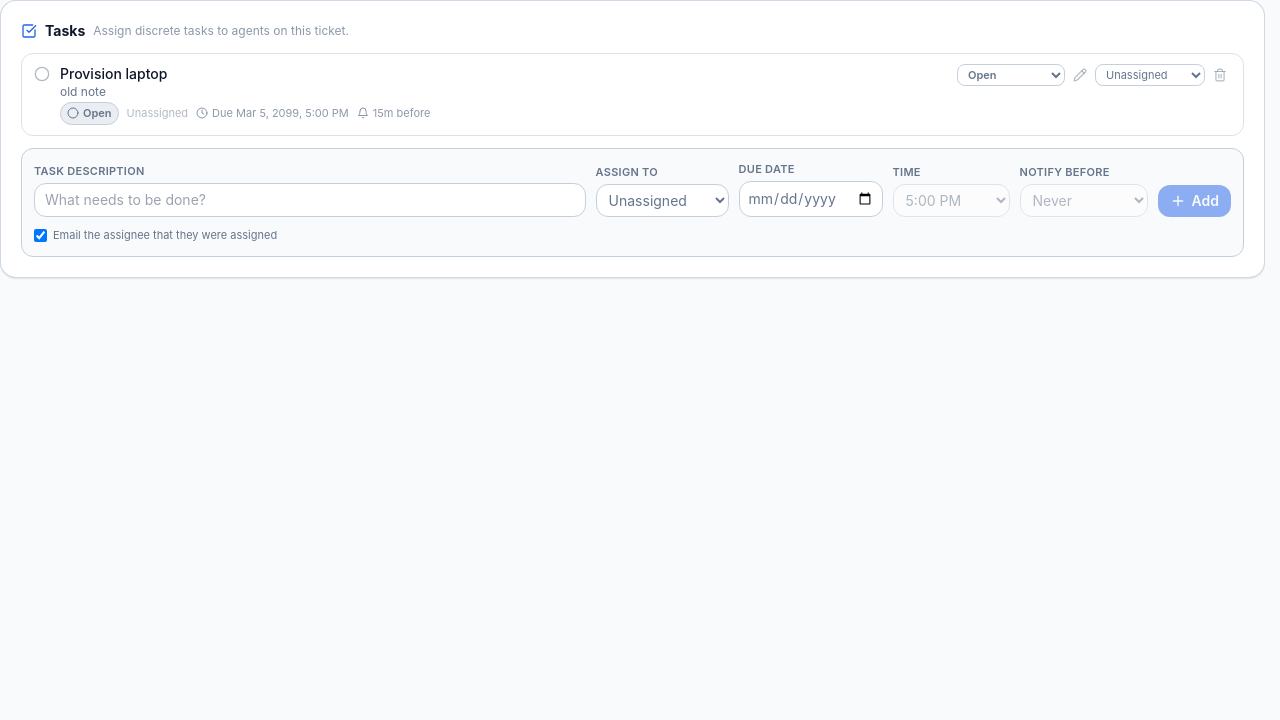
it: TicketTasksTab due time + reminders (QA 08-04 #8) › pencil opens the edit popover; Save PATCHes only the changed fields
This screenshot has width=1280, height=720.
Check: the text "Provision laptop" is shown, box top-left (60, 65), bottom-right (168, 82)
Step 1. Click the button named "Edit task" → (1080, 75), box top-left (1069, 64), bottom-right (1091, 86)
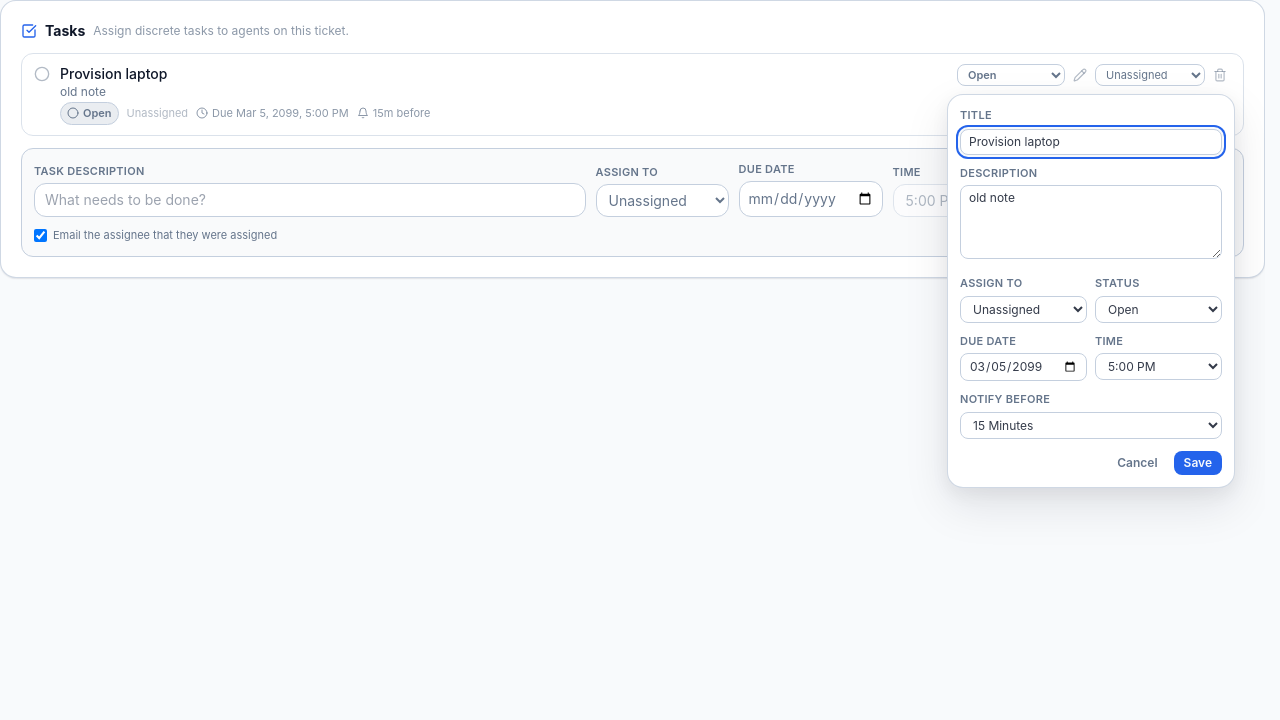
Check: the field labelled "Title" holds "Provision laptop"
Check: the date field labelled "Due Date" below "Status" holds "2099-03-05", box top-left (960, 353), bottom-right (1087, 381)
Check: the dropdown labelled "Time" shows "5:00 PM", box top-left (1095, 353), bottom-right (1222, 380)
Step 2. Replace the text in the field labelled "Title" with "Provision laptop + dock" → (1091, 142), box top-left (960, 128), bottom-right (1222, 154)
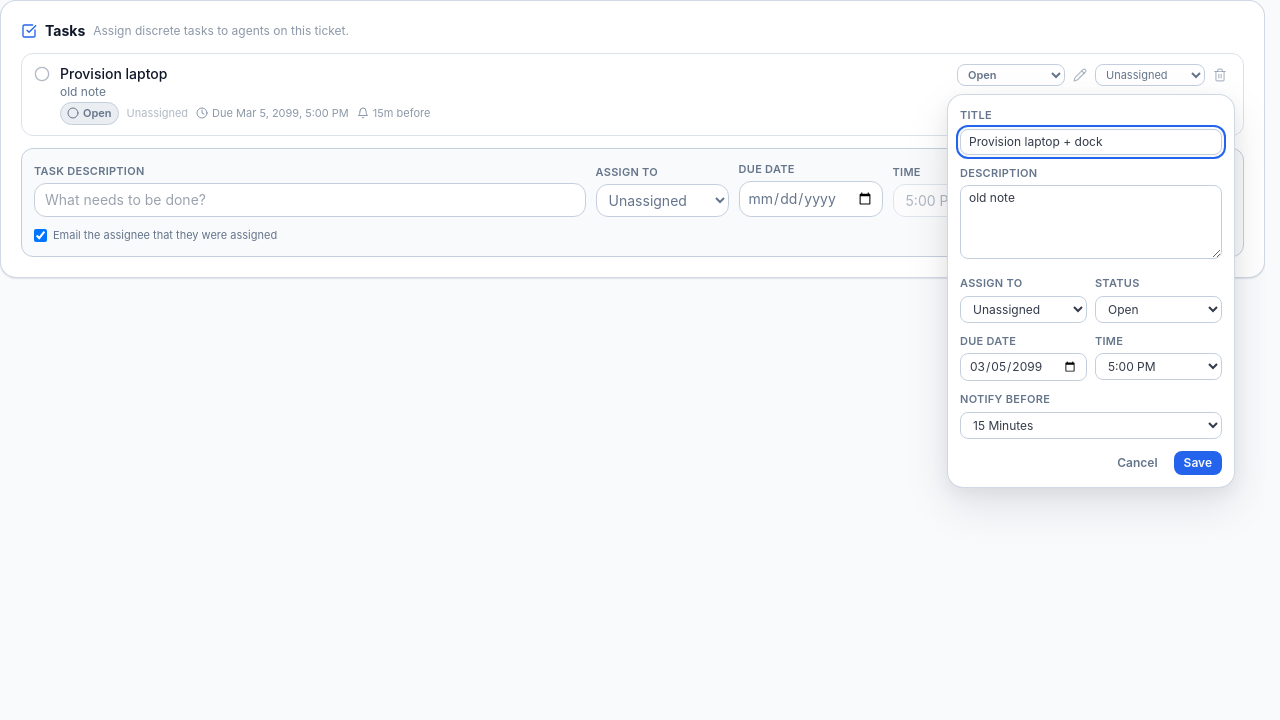
Step 3. Select "9:30 AM" in the dropdown labelled "Time" → (1158, 366), box top-left (1095, 353), bottom-right (1222, 380)
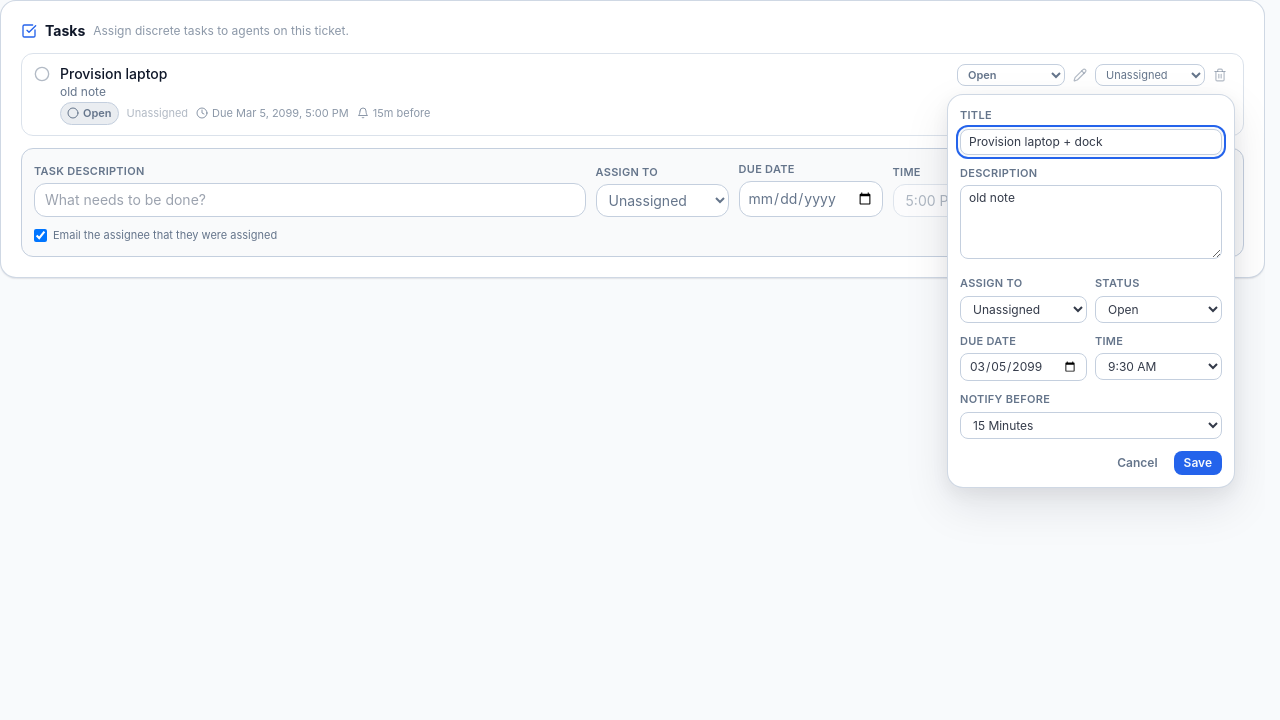
Step 4. Select "1 Hour" in the dropdown labelled "Notify Before" → (1091, 425), box top-left (960, 412), bottom-right (1222, 438)
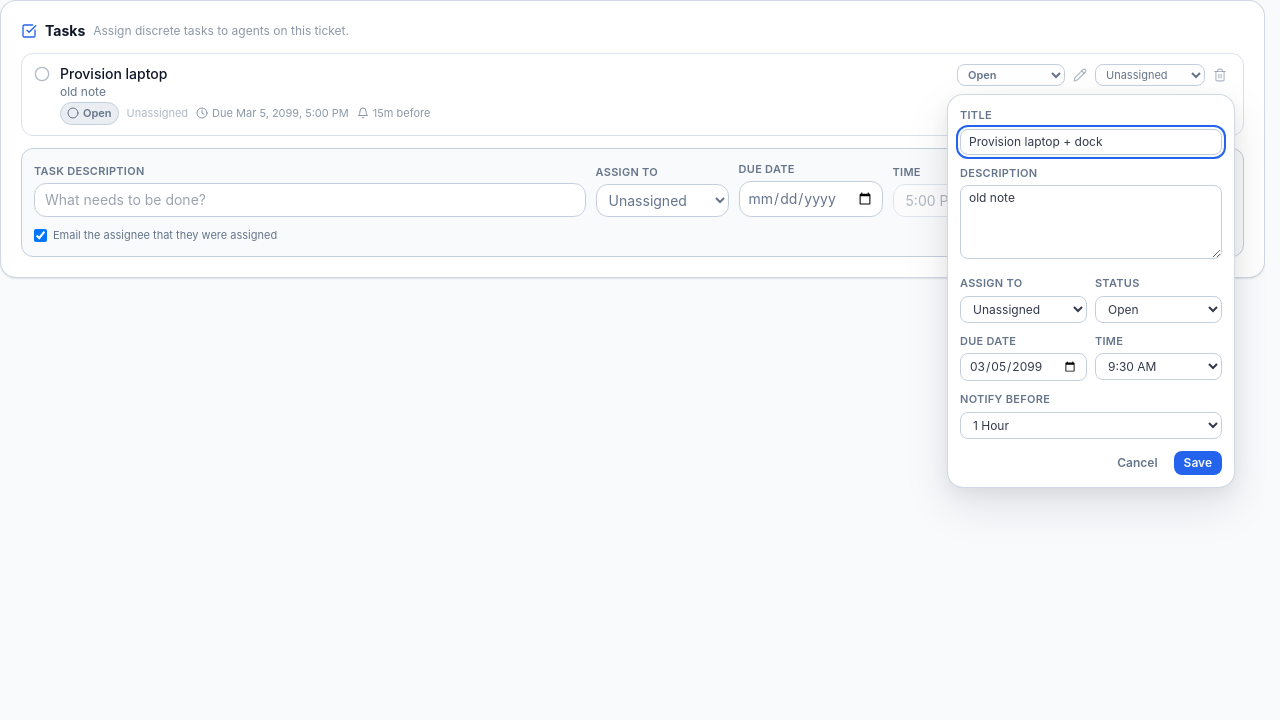
Step 5. Select "Mehdi" in the dropdown labelled "Assign To" below "Status" → (1024, 309), box top-left (960, 296), bottom-right (1087, 322)
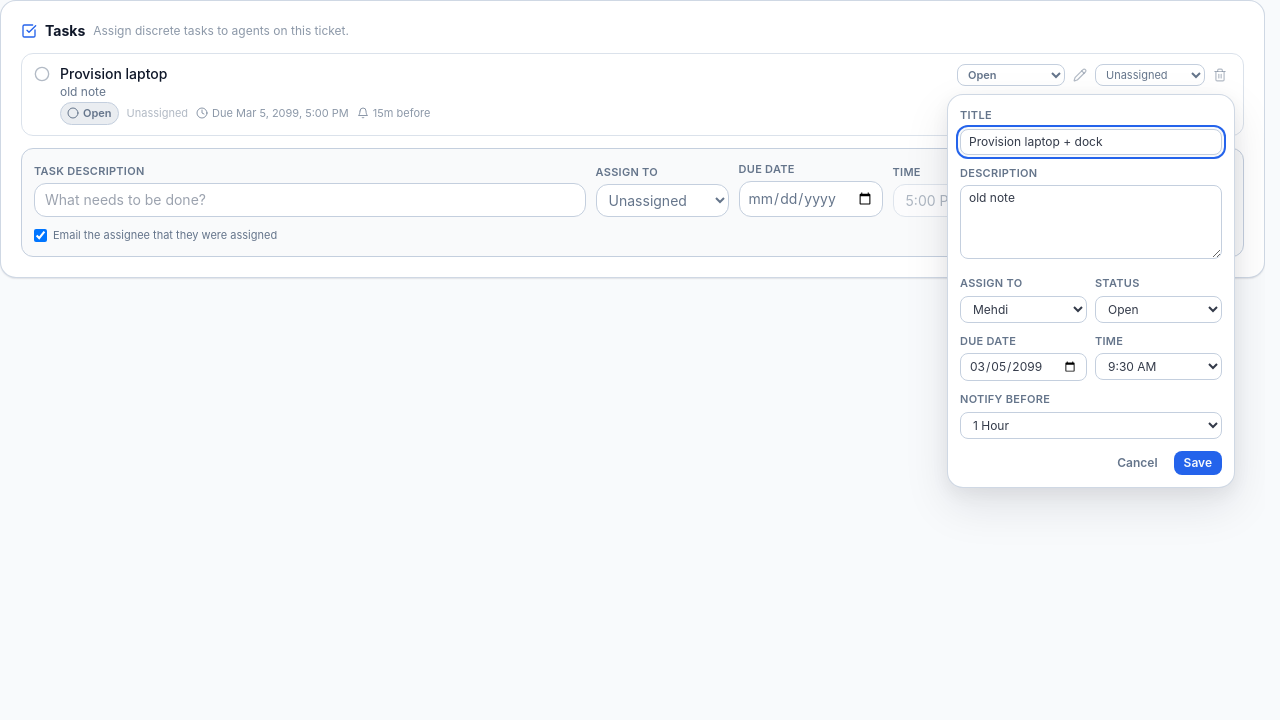
Step 6. Click the button "Save" → (1198, 462), box top-left (1174, 450), bottom-right (1222, 474)
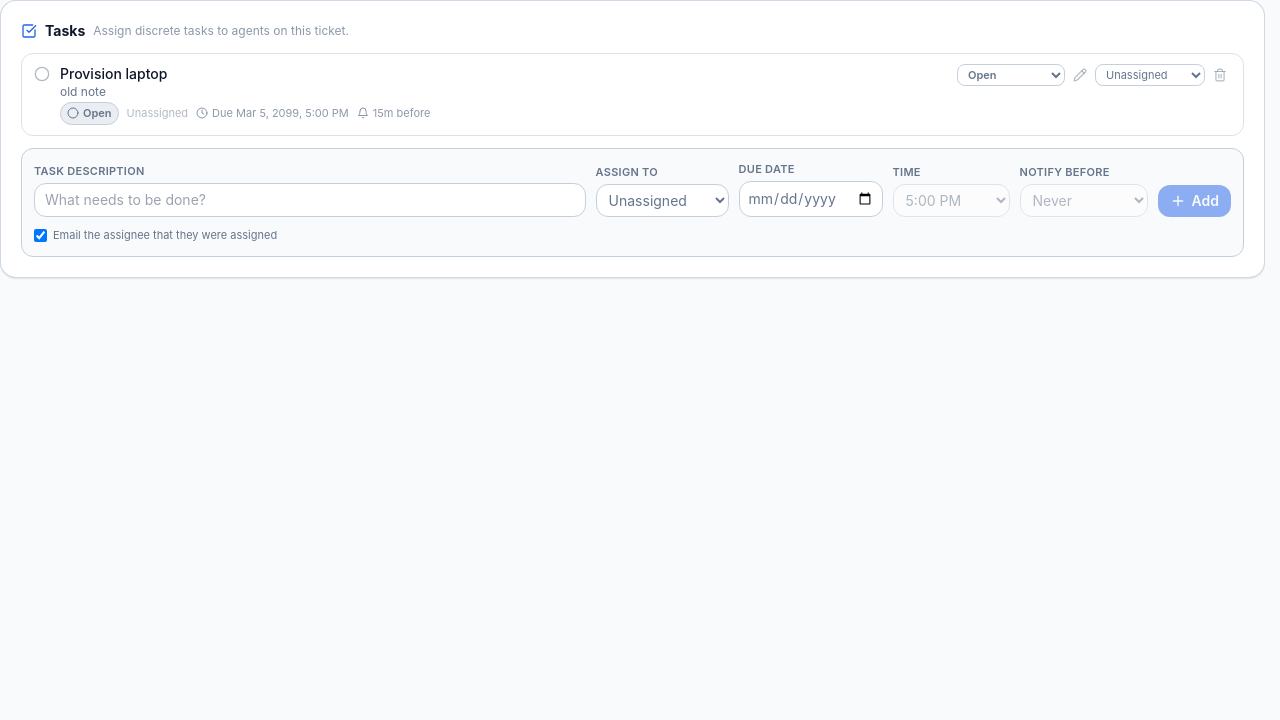
Check: the dialog is gone
